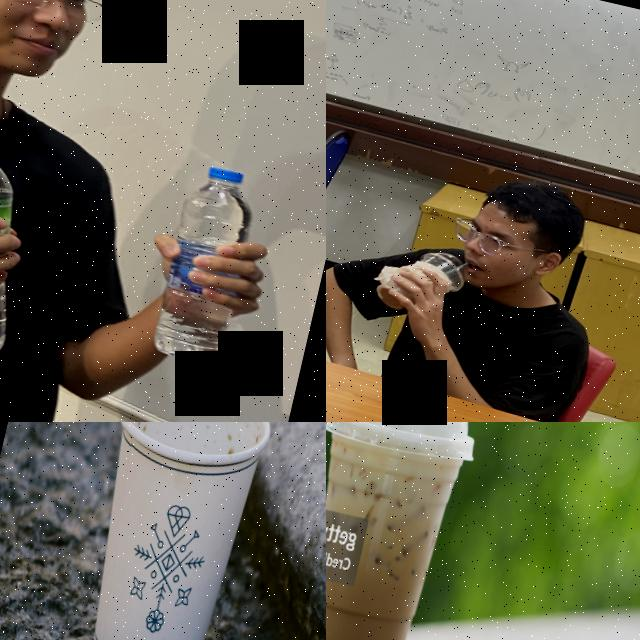bottle: (147, 158, 264, 368), (0, 127, 49, 362)
cup: (57, 422, 279, 640), (326, 422, 497, 640), (368, 237, 475, 326)
